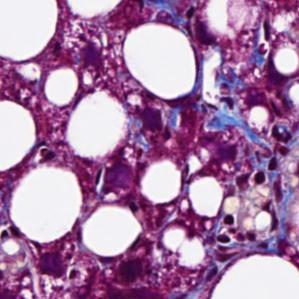inflammation: (232, 149, 283, 194), (211, 209, 261, 250)
